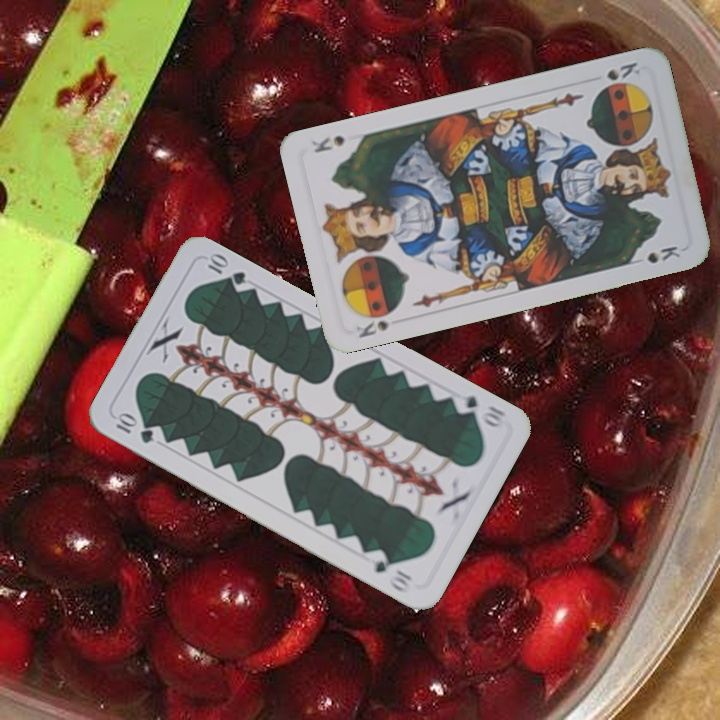G10: (450, 389, 509, 431), (111, 410, 156, 447)
SK: (352, 305, 400, 341), (602, 58, 644, 83)
